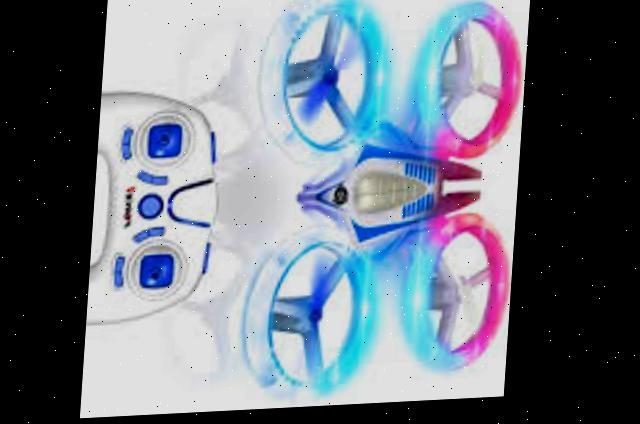drone: (204, 0, 531, 415)
